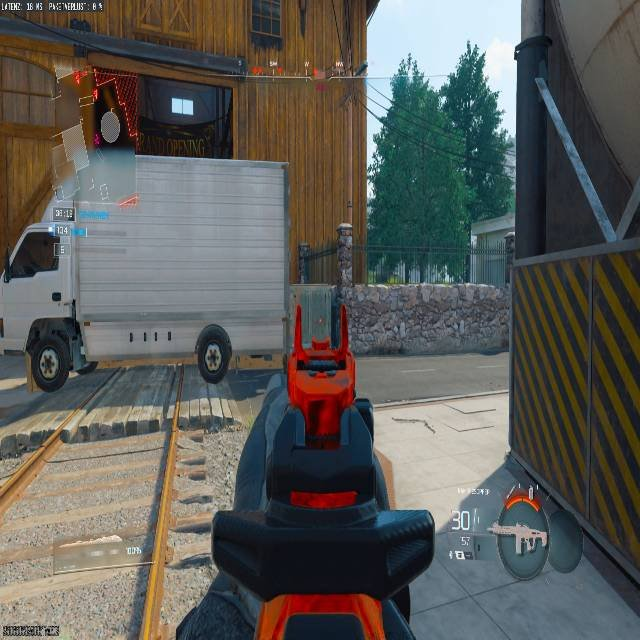player: (336, 223, 353, 280)
